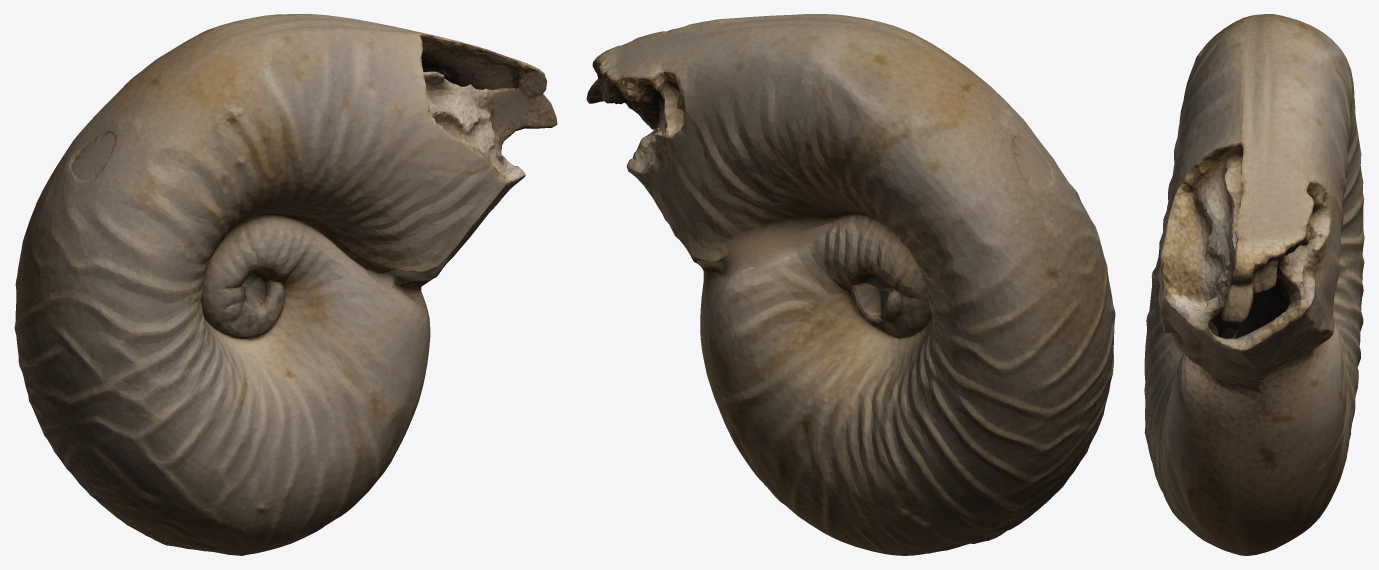
The picture shows the model from 3 angles, left to right: view 1: azimuth 30°, elevation 25°; view 2: azimuth 150°, elevation 25°; view 3: azimuth 270°, elevation 25°; orthographic projection. The views are drawn at different scales.
Visible parts, largest first — view 1: world; view 2: world; view 3: world.
Part boxes in pixels (x1=…): world: x1=14, y1=14, x2=557, y2=555; world: x1=586, y1=14, x2=1115, y2=555; world: x1=1144, y1=14, x2=1364, y2=555.
Bounding box in the file's own units: 0.9973 × 0.9449 × 0.3698.
2 materials, 1 textured.
